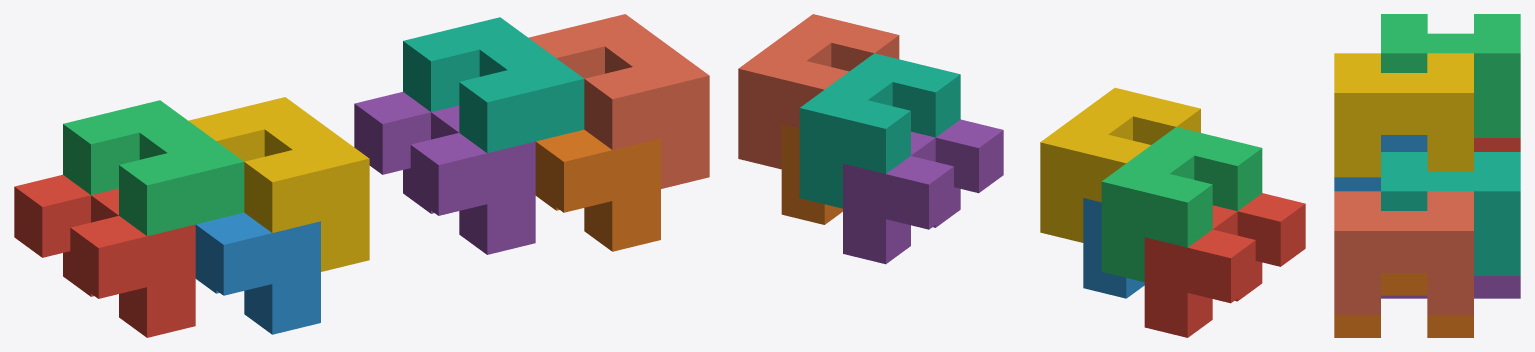
File: tiling.obj
3 renders of one model, left to right at view 1: azimuth 30°, elevation 25°; view 2: azimuth 150°, elevation 25°; view 3: azimuth 270°, elevation 25°, orthographic. The views are drawn at different scales.
Parts seen in each view (by area): view 1: copy_1_domain_1, copy_1_domain_5, copy_1_domain_4, copy_1_domain_8, copy_1_domain_7, copy_1_domain_3, copy_1_domain_2, copy_1_domain_6; view 2: copy_1_domain_3, copy_1_domain_7, copy_1_domain_1, copy_1_domain_5, copy_1_domain_8, copy_1_domain_4, copy_1_domain_6, copy_1_domain_2; view 3: copy_1_domain_8, copy_1_domain_4, copy_1_domain_3, copy_1_domain_7, copy_1_domain_6, copy_1_domain_2, copy_1_domain_5, copy_1_domain_1.
Boxes of the visible parts, x1,y1,x2,y2 form: copy_1_domain_1: (14, 174, 195, 337); copy_1_domain_5: (354, 92, 535, 254); copy_1_domain_4: (188, 97, 369, 271); copy_1_domain_8: (528, 14, 709, 188); copy_1_domain_7: (403, 17, 584, 153); copy_1_domain_3: (63, 100, 244, 236); copy_1_domain_2: (195, 212, 320, 334); copy_1_domain_6: (535, 129, 660, 251); copy_1_domain_3: (1101, 127, 1262, 282); copy_1_domain_7: (799, 53, 960, 208); copy_1_domain_1: (1144, 193, 1305, 337); copy_1_domain_5: (843, 119, 1003, 264); copy_1_domain_8: (738, 14, 899, 169); copy_1_domain_4: (1040, 87, 1200, 242); copy_1_domain_6: (781, 124, 842, 224); copy_1_domain_2: (1083, 198, 1144, 298); copy_1_domain_8: (1334, 191, 1473, 315); copy_1_domain_4: (1334, 53, 1473, 177); copy_1_domain_3: (1381, 14, 1520, 137); copy_1_domain_7: (1381, 152, 1520, 275); copy_1_domain_6: (1334, 273, 1473, 337); copy_1_domain_2: (1334, 135, 1427, 191); copy_1_domain_5: (1381, 276, 1520, 298); copy_1_domain_1: (1474, 138, 1520, 151).
Bounding box in the file's own units: 12 × 3 × 4.
